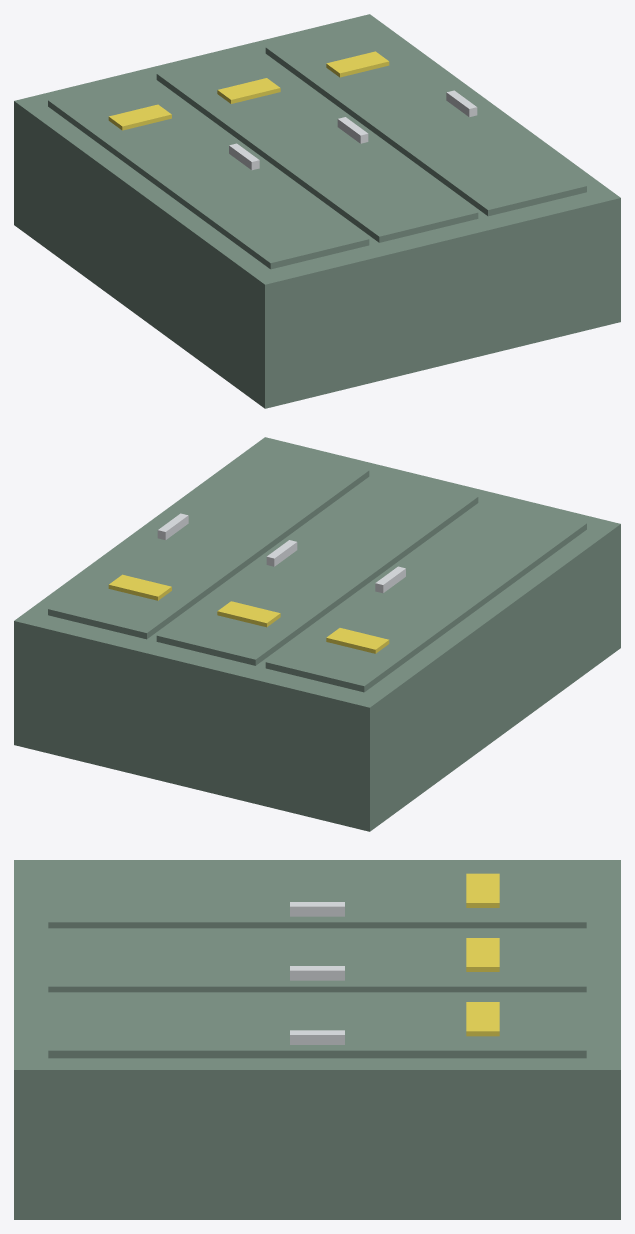
The model's file is prop_hazard_lockers.glb.
The picture shows the model from 3 angles, top to bottom: view 1: azimuth 30°, elevation 25°; view 2: azimuth 150°, elevation 25°; view 3: azimuth 270°, elevation 25°; orthographic projection. The views are drawn at different scales.
Parts seen in each view (by area): view 1: Cube, Cube.004, Cube.001, Cube.007, Cube.003, Cube.009, Cube.006; view 2: Cube, Cube.004, Cube.001, Cube.007, Cube.006, Cube.003, Cube.009; view 3: Cube, Cube.007, Cube.001, Cube.004, Cube.003, Cube.009, Cube.006, Cube.002, Cube.005, Cube.008.
Part boxes in pixels (x1,y1,x2,y2): Cube: [14, 14, 620, 408]; Cube.004: [156, 49, 478, 242]; Cube.001: [48, 76, 369, 269]; Cube.007: [265, 23, 586, 216]; Cube.003: [108, 104, 171, 130]; Cube.009: [326, 51, 389, 77]; Cube.006: [217, 78, 280, 103]; Cube: [14, 437, 620, 831]; Cube.004: [156, 472, 478, 665]; Cube.001: [265, 499, 586, 692]; Cube.007: [48, 446, 369, 639]; Cube.006: [217, 601, 280, 627]; Cube.003: [326, 628, 389, 653]; Cube.009: [108, 574, 171, 600]; Cube: [14, 860, 620, 1219]; Cube.007: [48, 992, 586, 1058]; Cube.001: [48, 864, 586, 928]; Cube.004: [48, 928, 586, 992]; Cube.003: [466, 873, 499, 907]; Cube.009: [466, 1002, 499, 1036]; Cube.006: [466, 938, 499, 971]; Cube.002: [290, 902, 344, 916]; Cube.005: [290, 966, 344, 980]; Cube.008: [290, 1030, 344, 1044].
Size of the model in its own units: 1.8 by 0.67 by 2.2.
